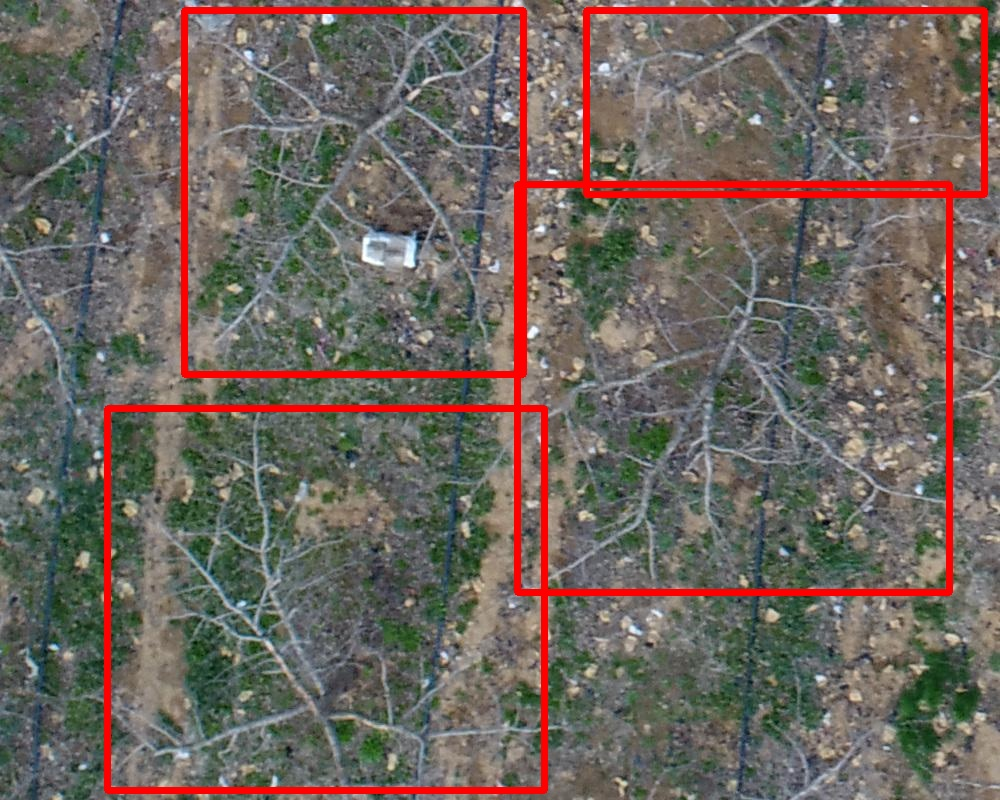apple: (517, 184, 949, 592), (107, 408, 544, 790), (184, 10, 523, 374), (586, 10, 984, 194)
